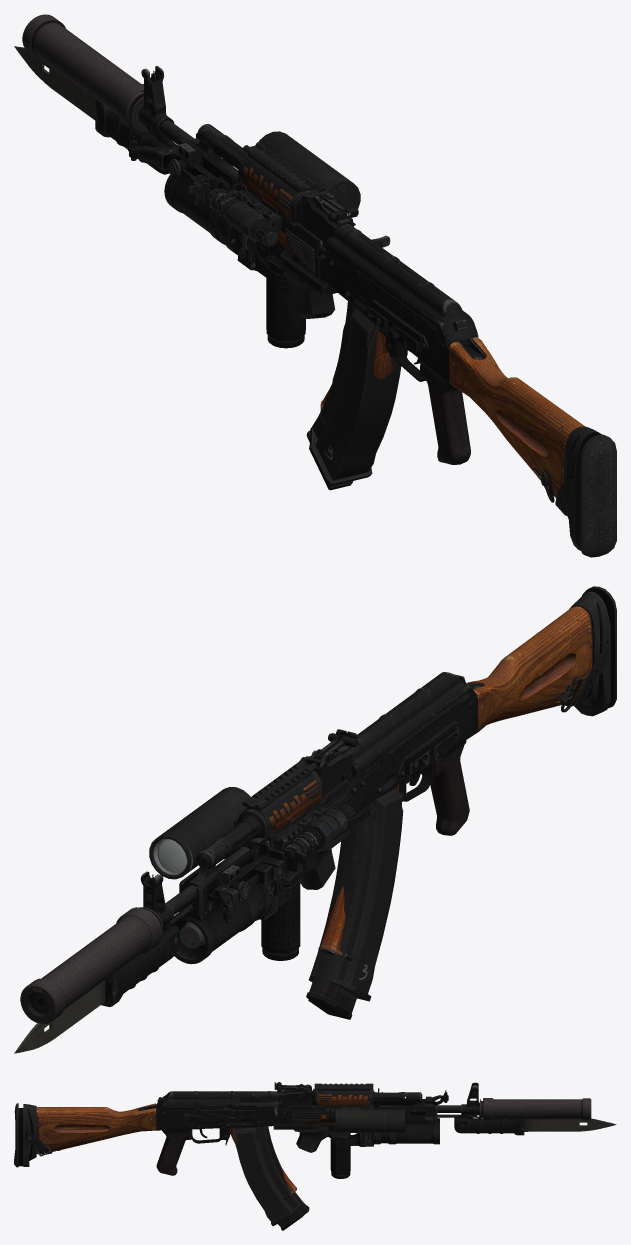
File: AK-74_World.fbx
The picture shows the model from 3 angles, top to bottom: view 1: azimuth 30°, elevation 25°; view 2: azimuth 150°, elevation 25°; view 3: azimuth 270°, elevation 25°; orthographic projection. The views are drawn at different scales.
Parts seen in each view (by area): view 1: grenade_launcher.001, mag_60.001, body.001, stock.001, KSK.001, silencer.001, handguard_2.001, bayonet.001, pistol_grip.001, tac_grip.001, flashlight.001, laser.001 (+4 smaller); view 2: grenade_launcher.001, stock.001, body.001, mag_60.001, silencer.001, KSK.001, flashlight.001, bayonet.001, handguard_2.001, mag_45.001, pistol_grip.001, tac_grip.001 (+5 smaller); view 3: grenade_launcher.001, body.001, stock.001, mag_60.001, silencer.001, bayonet.001, KSK.001, handguard_2.001, flashlight.001, tac_grip.001, pistol_grip.001, mag_45.001 (+4 smaller).
Boxes of the visible parts, left/top/right/bottom form: grenade_launcher.001: left=129, top=133, right=616, bottom=557; mag_60.001: left=309, top=302, right=401, bottom=485; body.001: left=139, top=66, right=486, bottom=383; stock.001: left=449, top=337, right=584, bottom=509; KSK.001: left=327, top=224, right=478, bottom=346; silencer.001: left=22, top=14, right=147, bottom=131; handguard_2.001: left=232, top=142, right=320, bottom=279; bayonet.001: left=14, top=46, right=174, bottom=174; pistol_grip.001: left=419, top=359, right=470, bottom=464; tac_grip.001: left=262, top=244, right=305, bottom=348; flashlight.001: left=258, top=131, right=360, bottom=209; laser.001: left=207, top=188, right=279, bottom=247; grenade_launcher.001: left=170, top=586, right=616, bottom=964; stock.001: left=466, top=606, right=592, bottom=731; body.001: left=140, top=674, right=484, bottom=932; mag_60.001: left=309, top=788, right=403, bottom=1001; silencer.001: left=20, top=907, right=163, bottom=1024; KSK.001: left=344, top=672, right=476, bottom=774; flashlight.001: left=149, top=787, right=250, bottom=879; bayonet.001: left=14, top=925, right=179, bottom=1053; handguard_2.001: left=242, top=760, right=351, bottom=851; mag_45.001: left=306, top=785, right=397, bottom=1019; pistol_grip.001: left=420, top=740, right=469, bottom=835; tac_grip.001: left=261, top=858, right=305, bottom=960; grenade_launcher.001: left=14, top=1088, right=448, bottom=1167; body.001: left=138, top=1082, right=479, bottom=1145; stock.001: left=36, top=1103, right=155, bottom=1154; mag_60.001: left=234, top=1126, right=301, bottom=1225; silencer.001: left=480, top=1098, right=591, bottom=1120; bayonet.001: left=454, top=1117, right=616, bottom=1135; KSK.001: left=157, top=1091, right=279, bottom=1112; handguard_2.001: left=288, top=1083, right=373, bottom=1124; flashlight.001: left=335, top=1107, right=404, bottom=1132; tac_grip.001: left=327, top=1123, right=350, bottom=1178; pistol_grip.001: left=156, top=1129, right=192, bottom=1175; mag_45.001: left=234, top=1126, right=309, bottom=1230.
Bounding box in the file's own units: 20.92 × 43.41 × 165.
